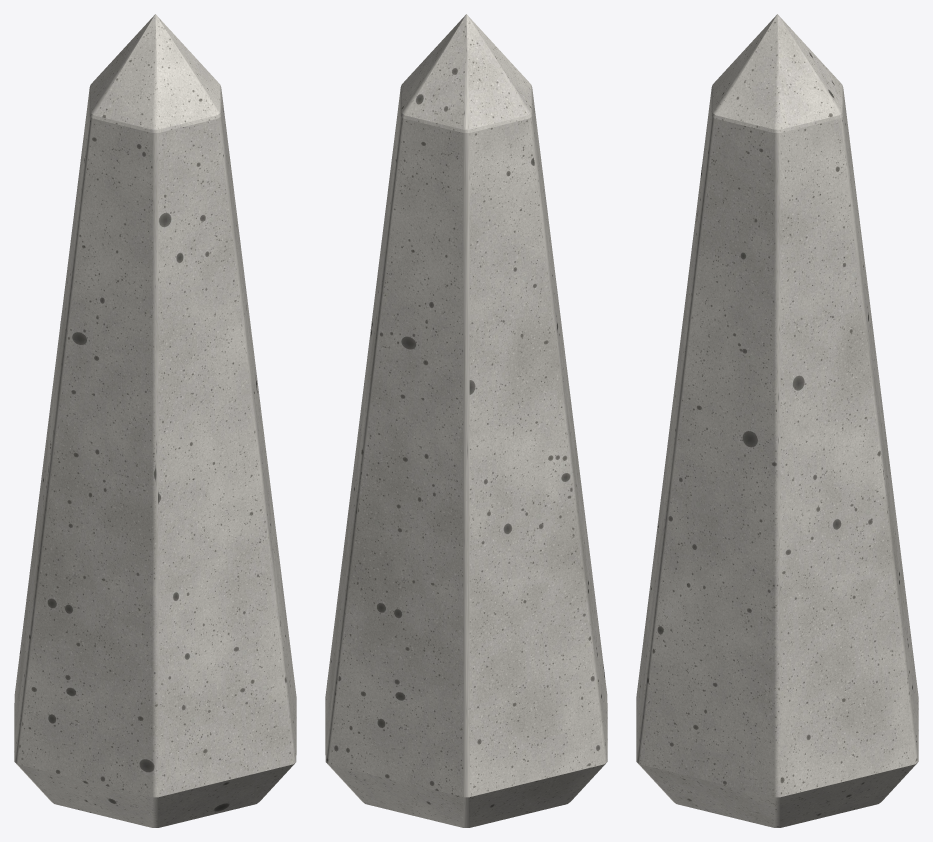
The model's file is bishop-white-hd.glb.
The picture shows the model from 3 angles, left to right: view 1: azimuth 30°, elevation 25°; view 2: azimuth 150°, elevation 25°; view 3: azimuth 270°, elevation 25°; orthographic projection.
Visible parts, largest first — view 1: HEXALITH_white_bishop; view 2: HEXALITH_white_bishop; view 3: HEXALITH_white_bishop.
Boxes of the visible parts, <box> form: HEXALITH_white_bishop: <box>14,14,296,827</box>; HEXALITH_white_bishop: <box>325,14,607,827</box>; HEXALITH_white_bishop: <box>636,14,918,827</box>.
Size of the model in its own units: 0.5348 by 1.4 by 0.4685.
Materials: 1 (1 with a texture image).
